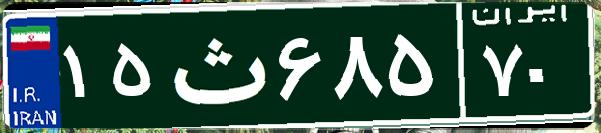0: (525, 38, 570, 115)
1: (57, 26, 110, 107)
5: (385, 28, 445, 110), (110, 28, 158, 105)
6: (273, 28, 330, 110)
7: (475, 38, 525, 113)
8: (330, 28, 385, 110)
ث: (158, 15, 273, 115)
